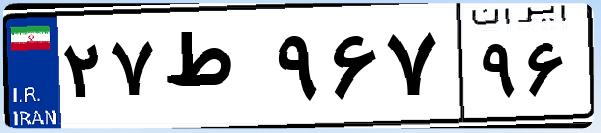2: (57, 26, 110, 100)
6: (330, 28, 385, 110), (525, 38, 570, 115)
7: (385, 28, 445, 110), (110, 28, 158, 98)
9: (270, 28, 330, 110), (475, 38, 525, 113)
ط: (158, 20, 270, 120)
